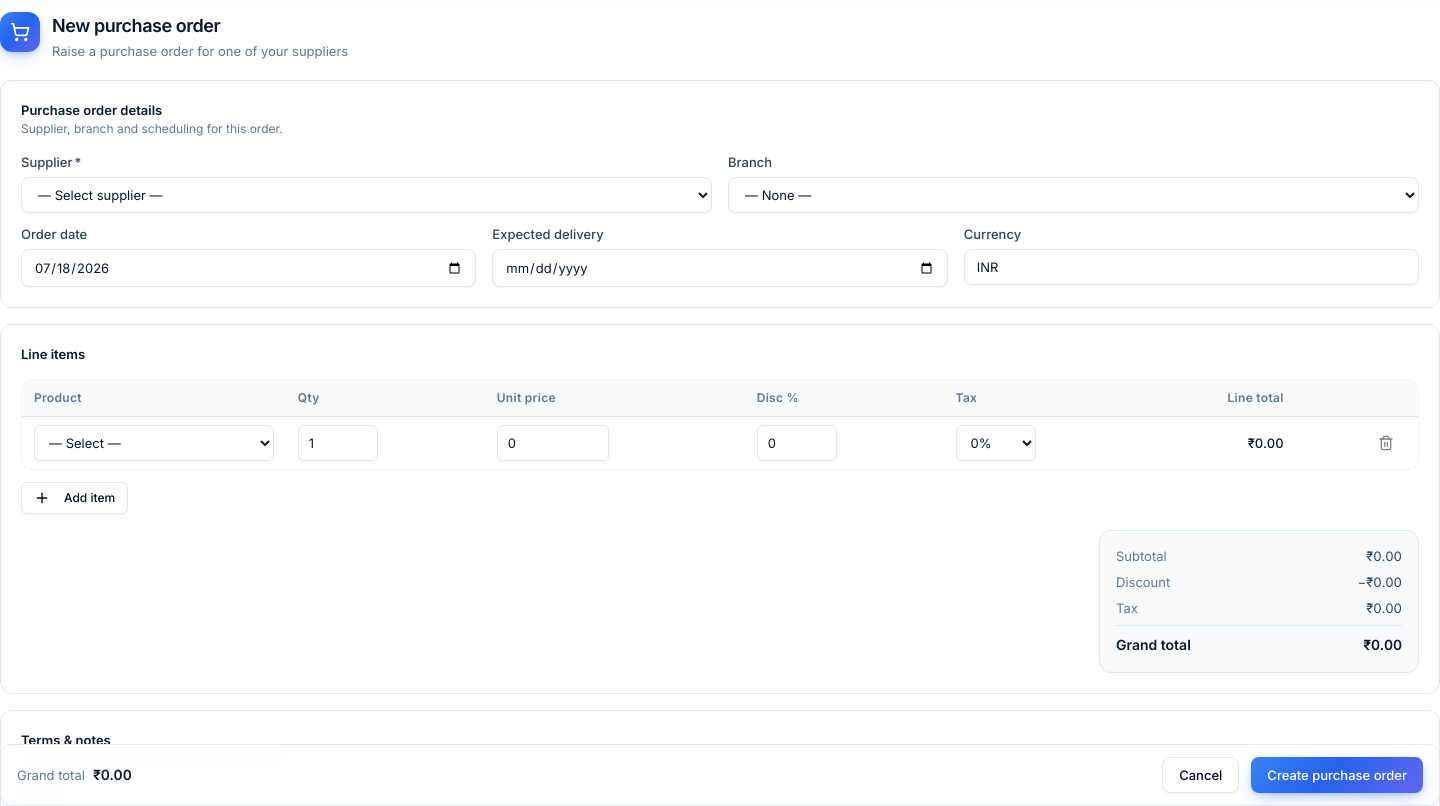
Test: PurchaseOrderForm › blocks submission when no supplier is selected
Select "Widget" in the dropdown named "Product for line 1" at {"x": 154, "y": 442}, box top-left (34, 424), bottom-right (274, 460)
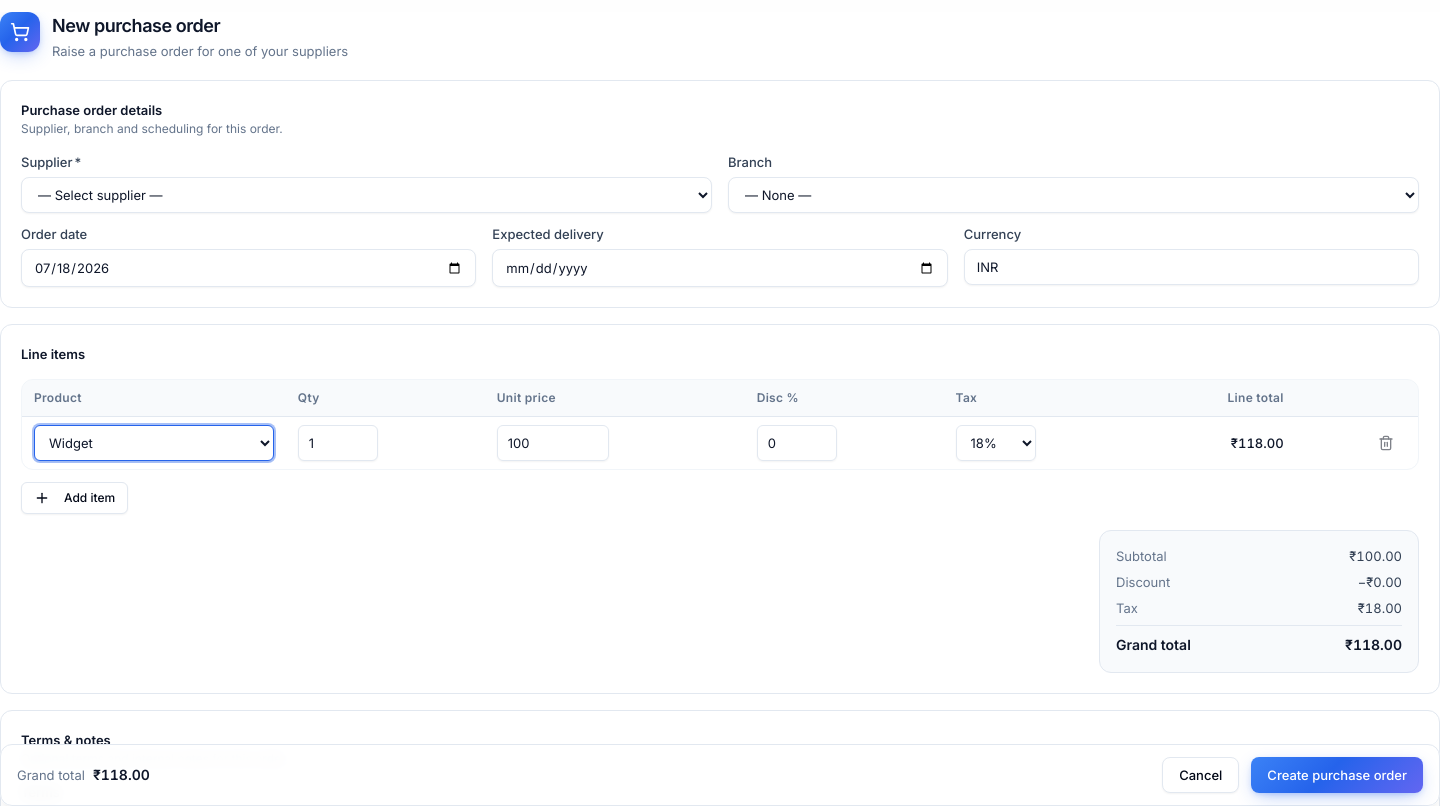
Click the button "Create purchase order".
click(1337, 775)  # box top-left (1251, 757), bottom-right (1423, 793)
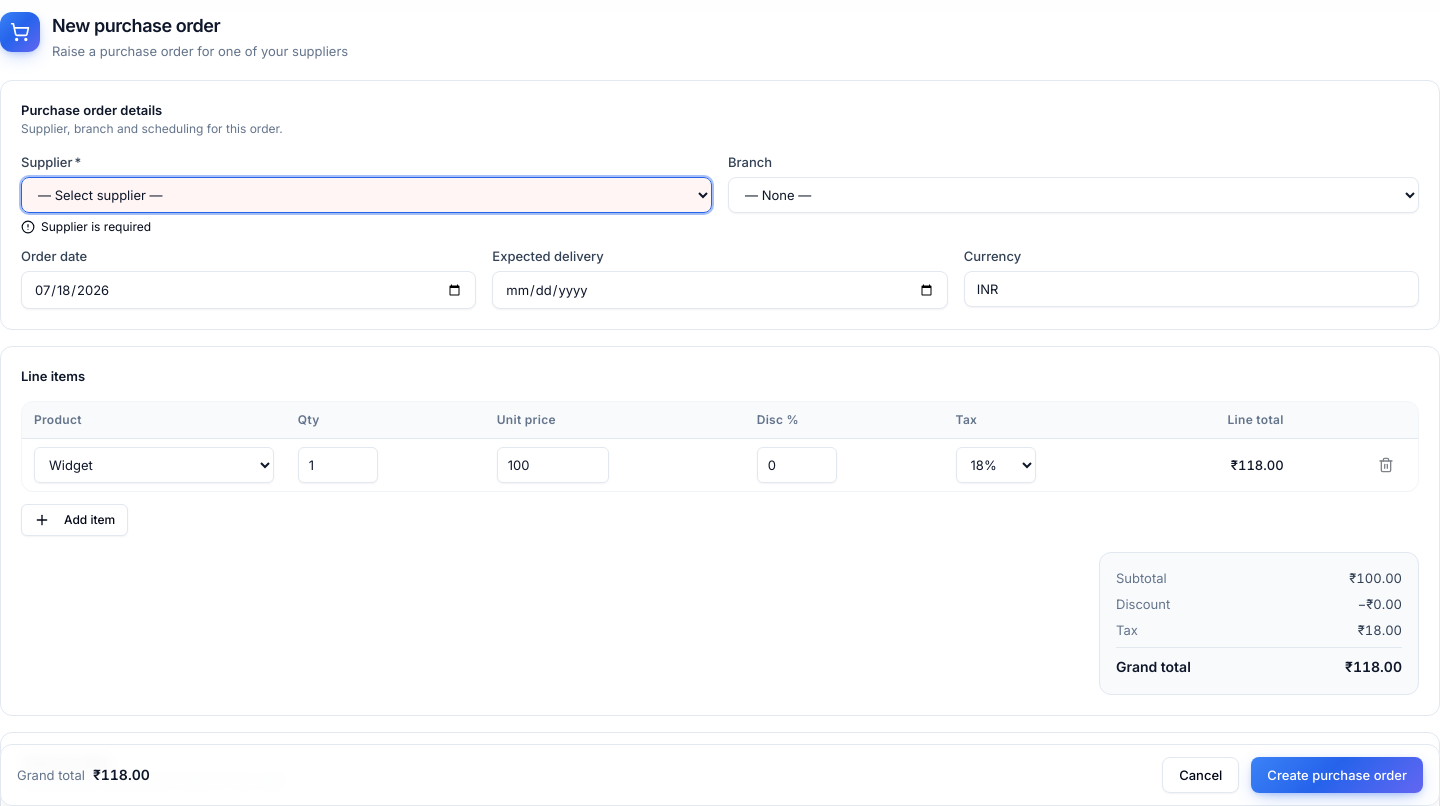
Now the text "Supplier is required" is shown, box top-left (21, 219), bottom-right (151, 234)
